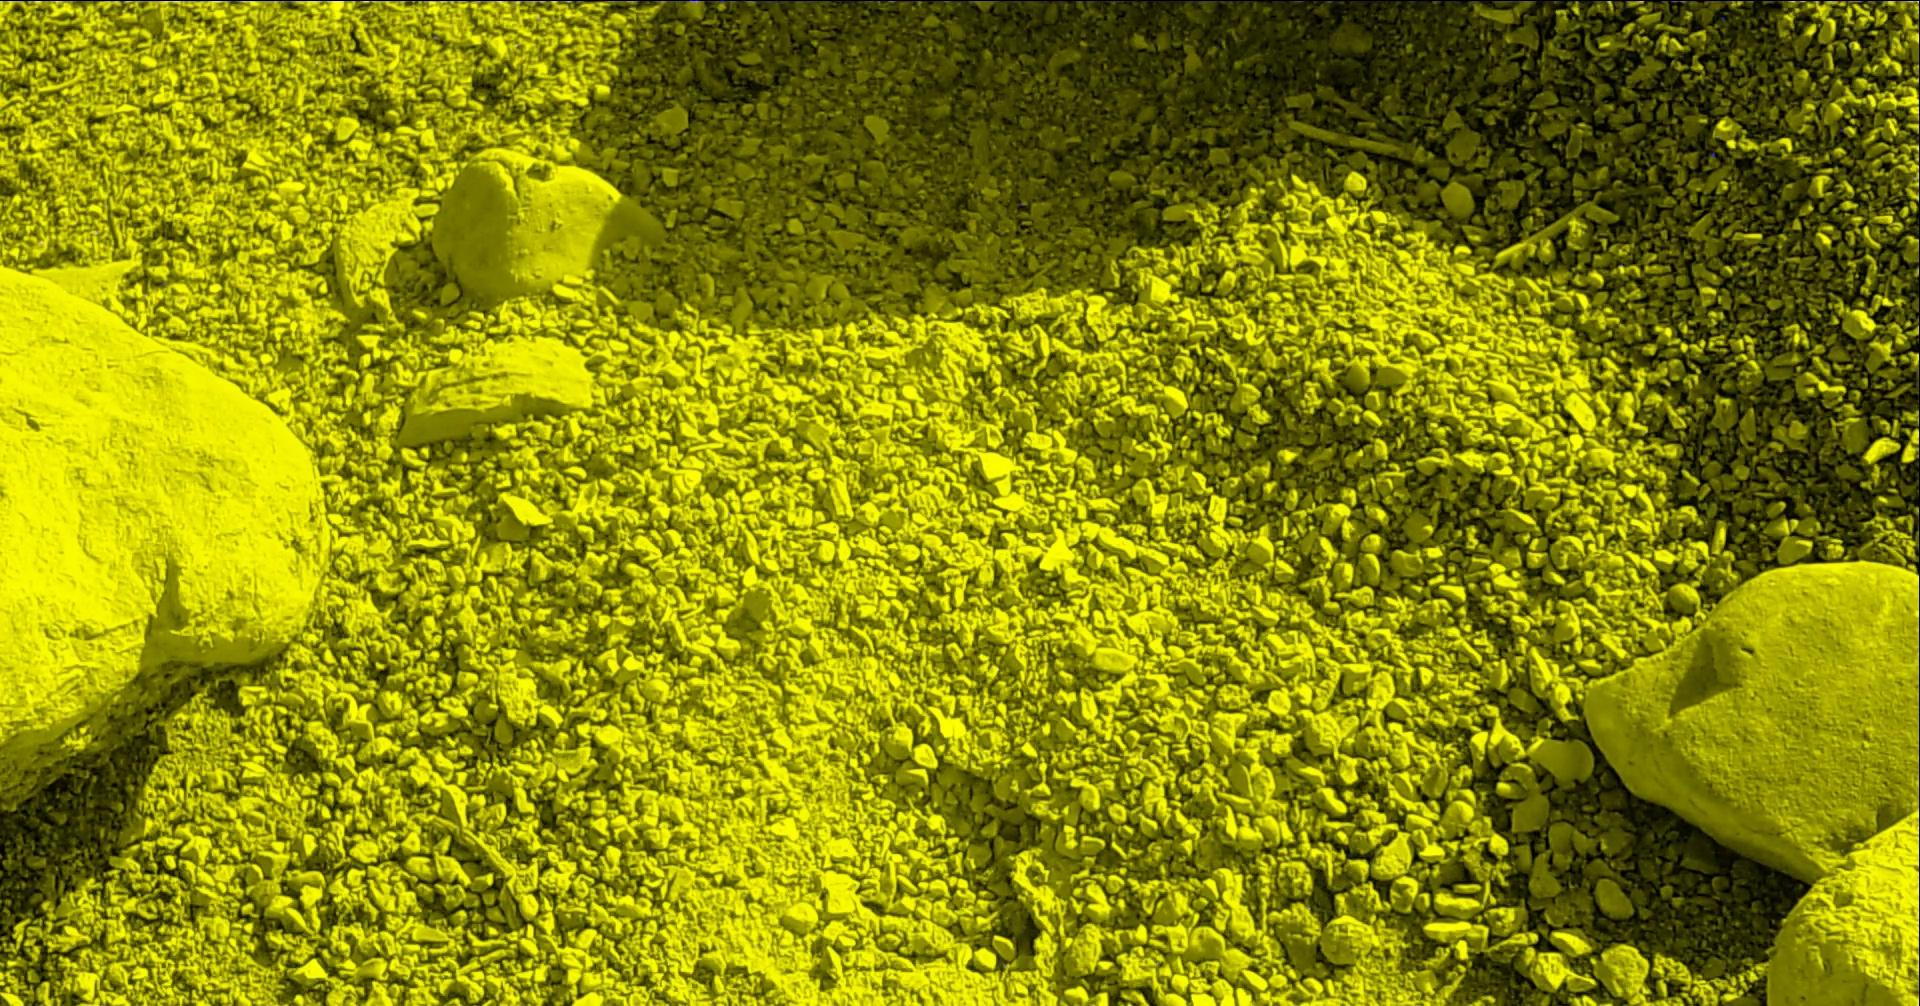ant: (667, 0, 737, 3)
